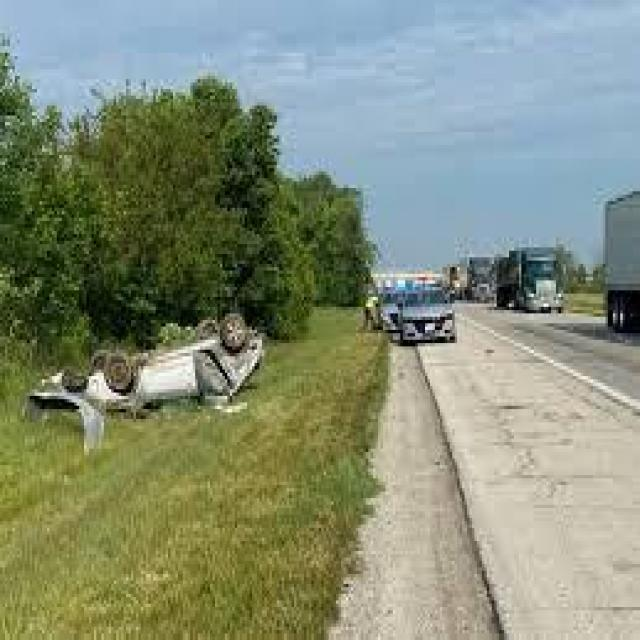accident: (26, 310, 268, 419)
